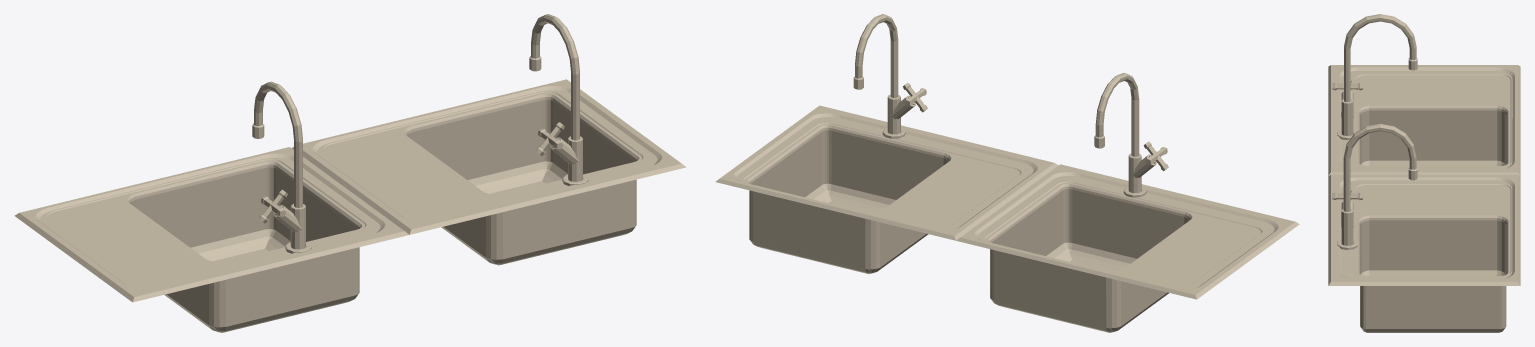
Rendered from Pia2.obj.
The picture shows the model from 3 angles, left to right: view 1: azimuth 30°, elevation 25°; view 2: azimuth 150°, elevation 25°; view 3: azimuth 270°, elevation 25°; orthographic projection. The views are drawn at different scales.
Parts seen in each view (by area): view 1: Mesh.2448_evier02.006, Mesh.2451_evier02.007, Mesh.2447_ev_08.006, Mesh.2452_ev_08.007; view 2: Mesh.2448_evier02.006, Mesh.2451_evier02.007, Mesh.2447_ev_08.006, Mesh.2452_ev_08.007; view 3: Mesh.2451_evier02.007, Mesh.2448_evier02.006, Mesh.2452_ev_08.007, Mesh.2447_ev_08.006.
Boxes of the visible parts, x1=… form: Mesh.2448_evier02.006: x1=14, y1=147, x2=408, y2=332; Mesh.2451_evier02.007: x1=292, y1=79, x2=686, y2=265; Mesh.2447_ev_08.006: x1=252, y1=81, x2=305, y2=249; Mesh.2452_ev_08.007: x1=529, y1=14, x2=582, y2=181; Mesh.2448_evier02.006: x1=956, y1=164, x2=1299, y2=332; Mesh.2451_evier02.007: x1=715, y1=105, x2=1058, y2=273; Mesh.2447_ev_08.006: x1=1094, y1=73, x2=1168, y2=193; Mesh.2452_ev_08.007: x1=853, y1=14, x2=927, y2=134; Mesh.2451_evier02.007: x1=1328, y1=174, x2=1520, y2=332; Mesh.2448_evier02.006: x1=1328, y1=65, x2=1520, y2=175; Mesh.2452_ev_08.007: x1=1332, y1=124, x2=1417, y2=245; Mesh.2447_ev_08.006: x1=1332, y1=14, x2=1417, y2=135.
Size of the model in its own units: 2.61 by 1.03 by 0.9664.
